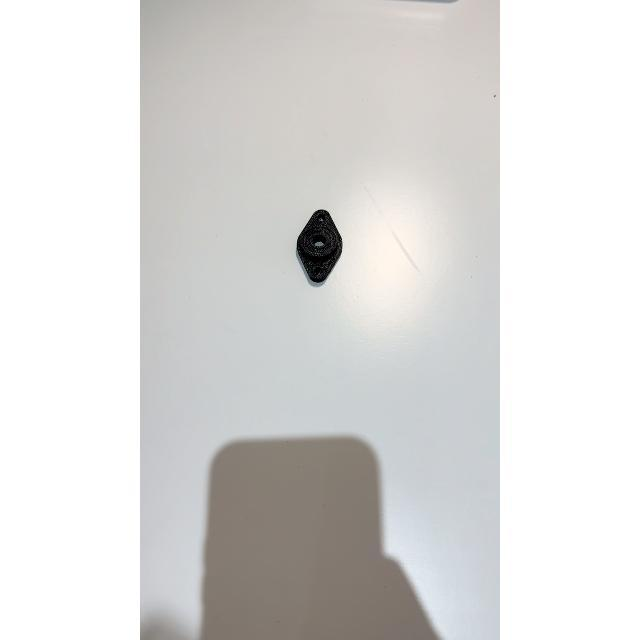Pieza2: (281, 203, 347, 295)
